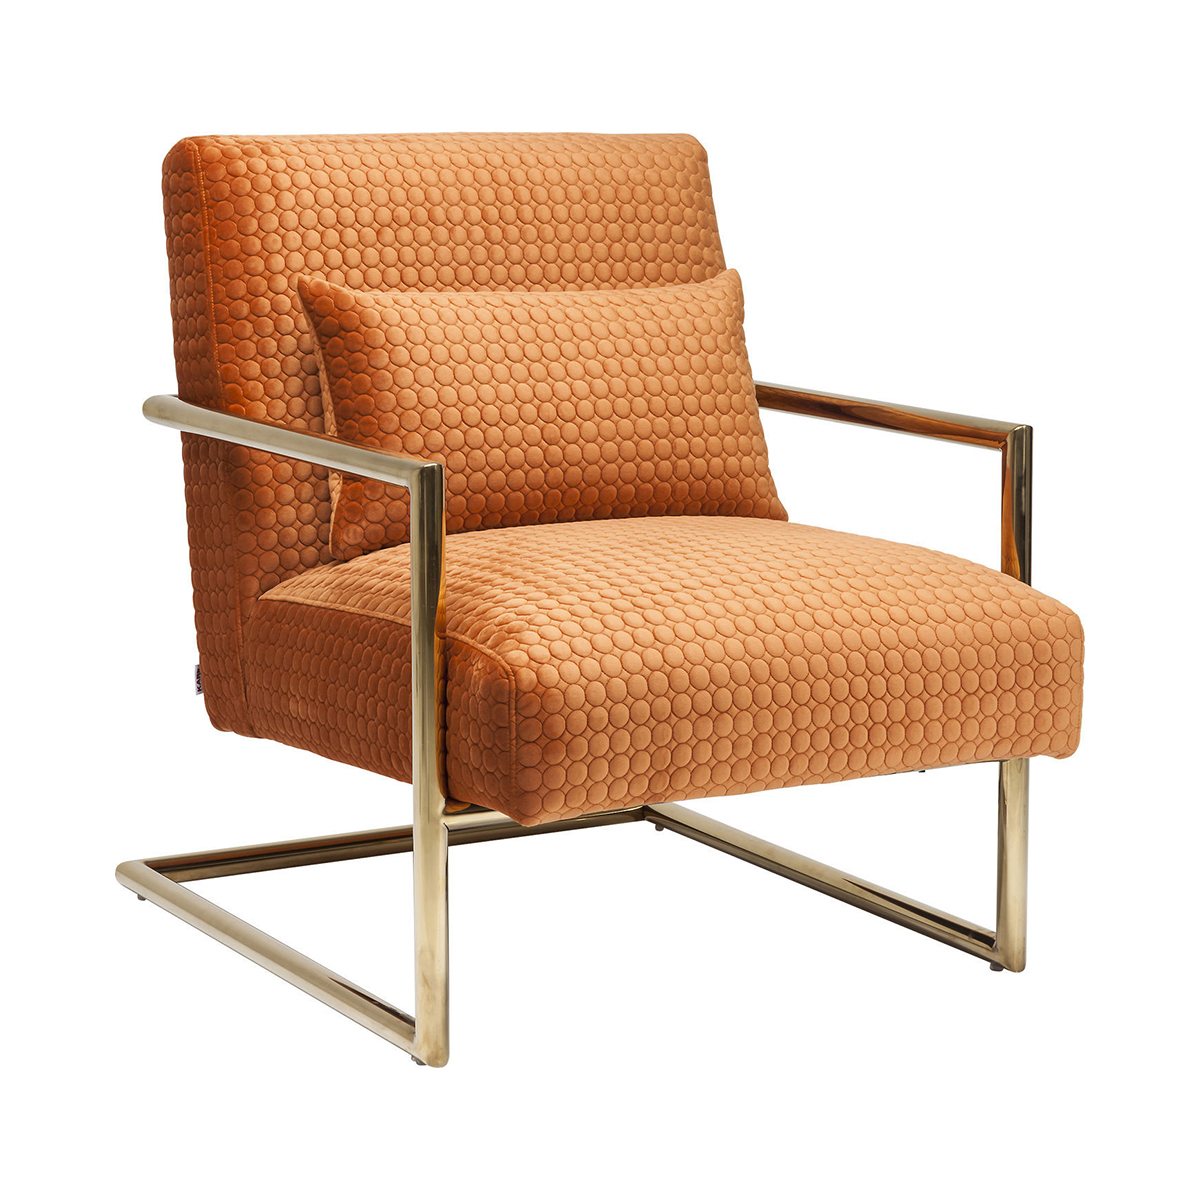chairs: (108, 120, 1091, 1073)
